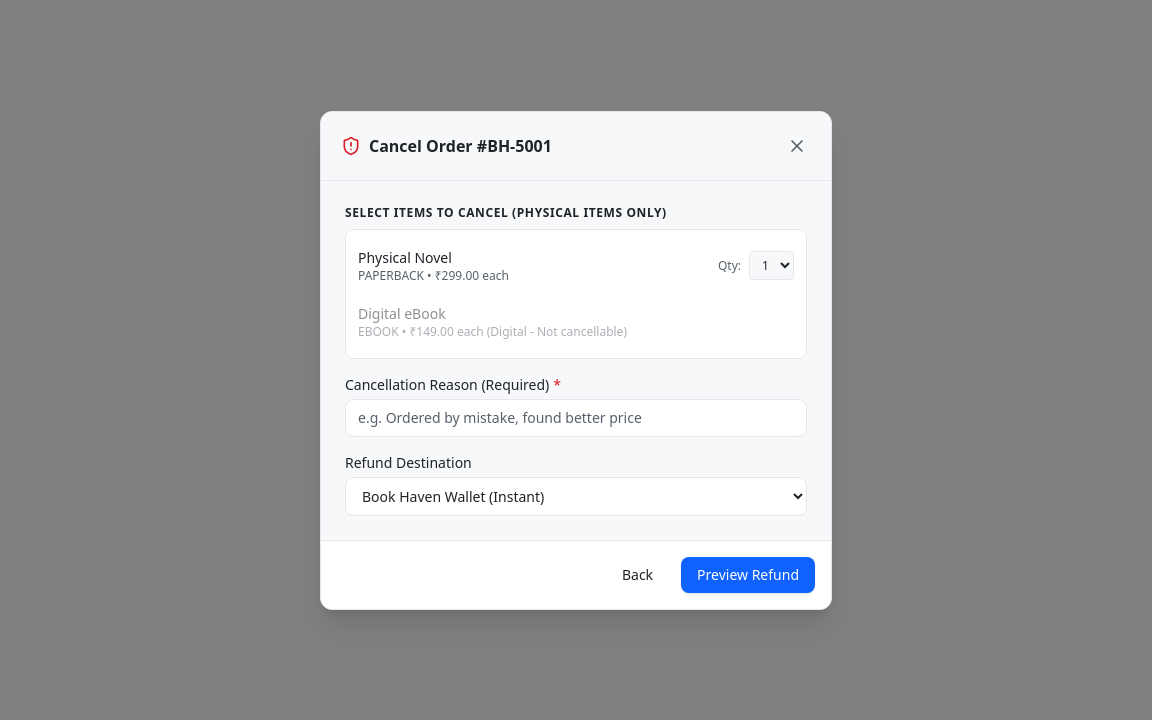
Test: CancelOrderModalTest › bankDetailsValidated: validates bank details with zod when Bank refund method is chosen
In the field labelled "Cancellation Reason (Required)*": (576, 418) [345,398,807,436], type "Mistake"
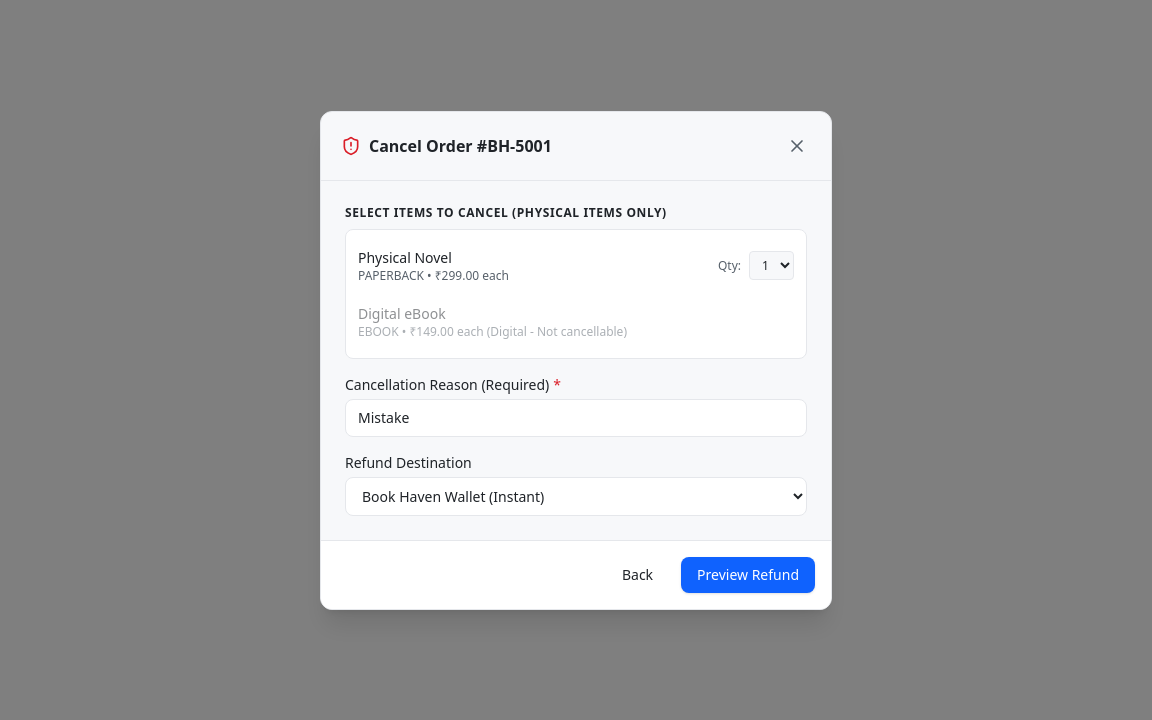
Select "Bank Account" in the dropdown labelled "Refund Destination": (576, 496) [345,476,807,516]
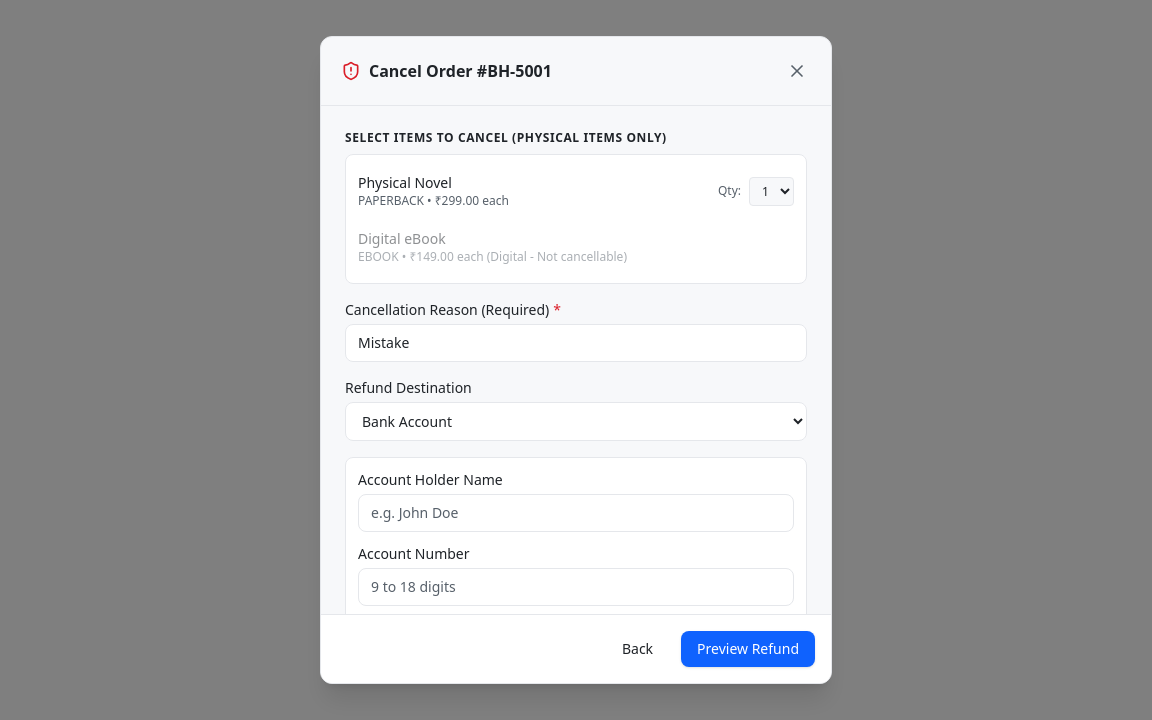
Click the button "Preview Refund": click(748, 649) [681,631,815,667]
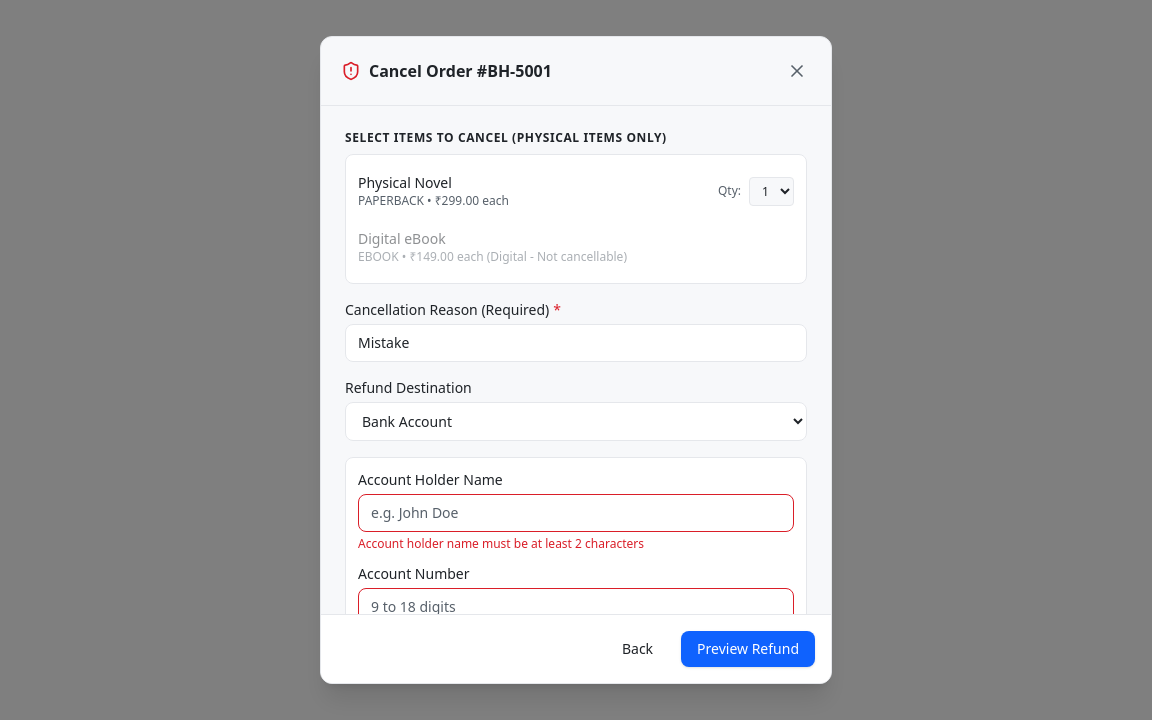
Expected: the text "Account holder name must be at least 2 characters" is shown, [358,535,644,552]
